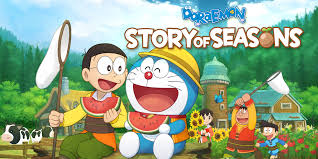doraemon: (119, 48, 202, 159)
